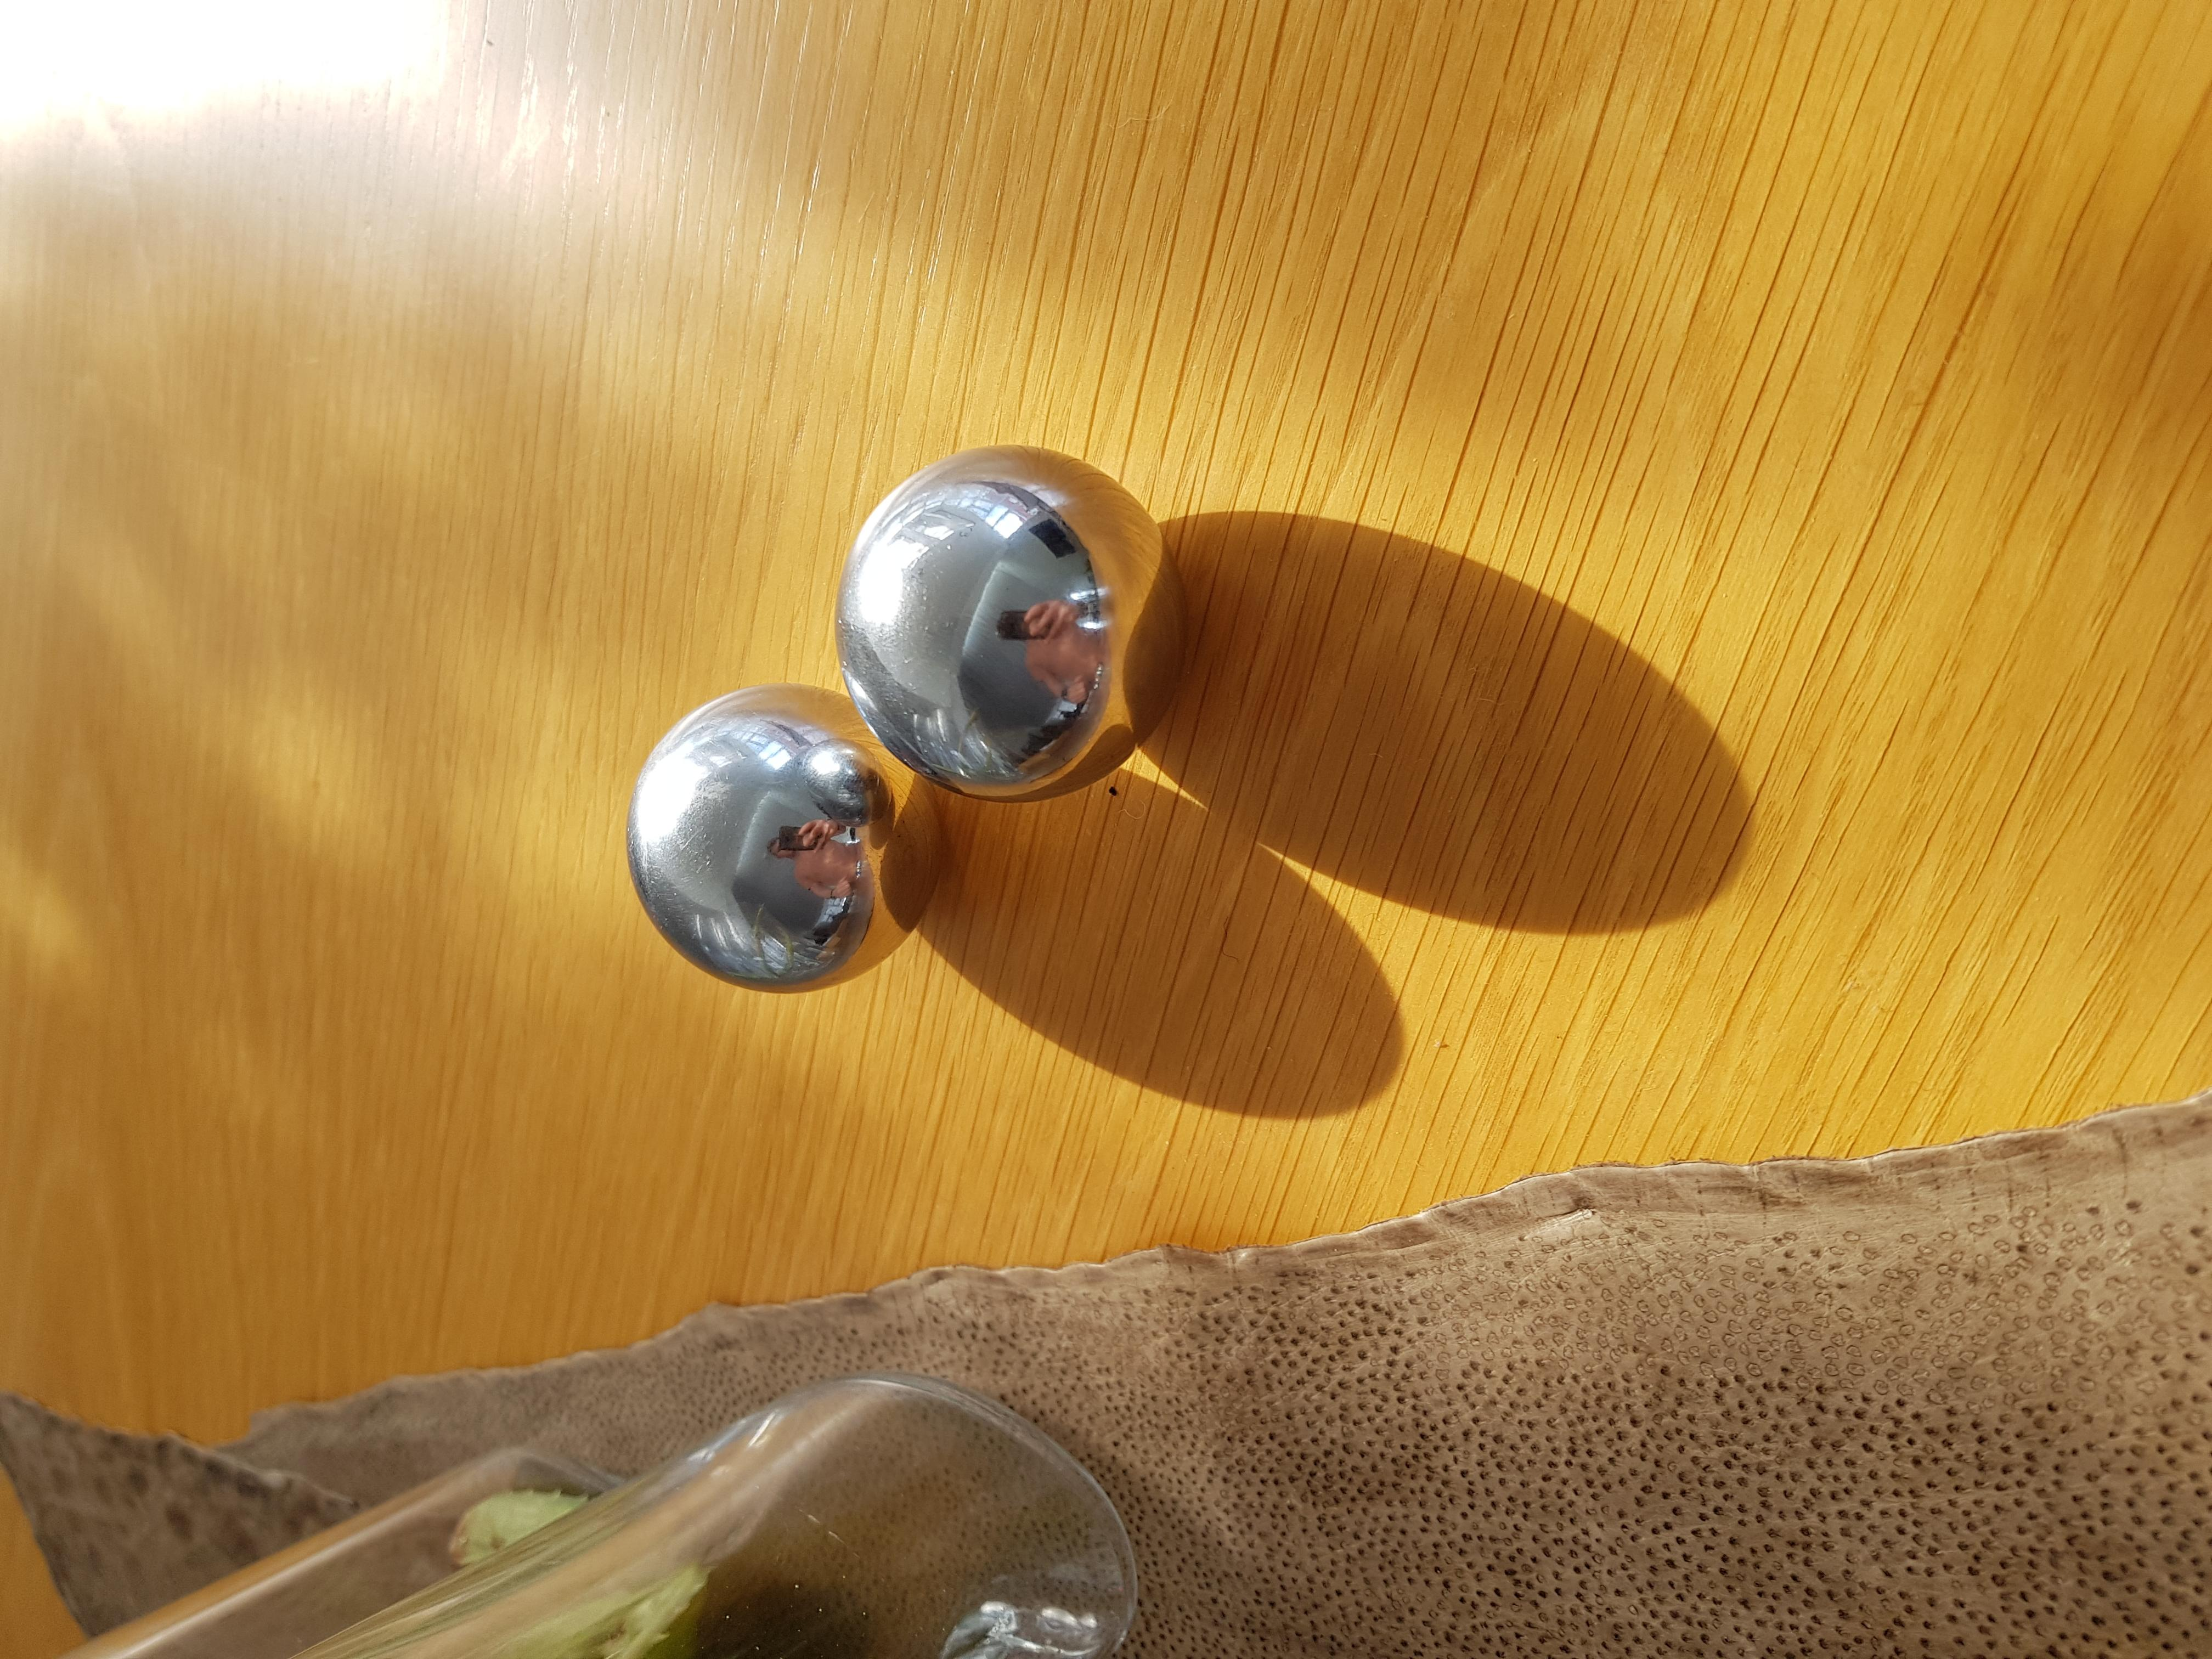sphere: (827, 446, 1186, 810), (618, 674, 932, 1009)
